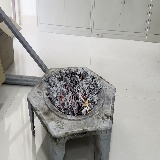fire: (85, 99, 89, 113)
